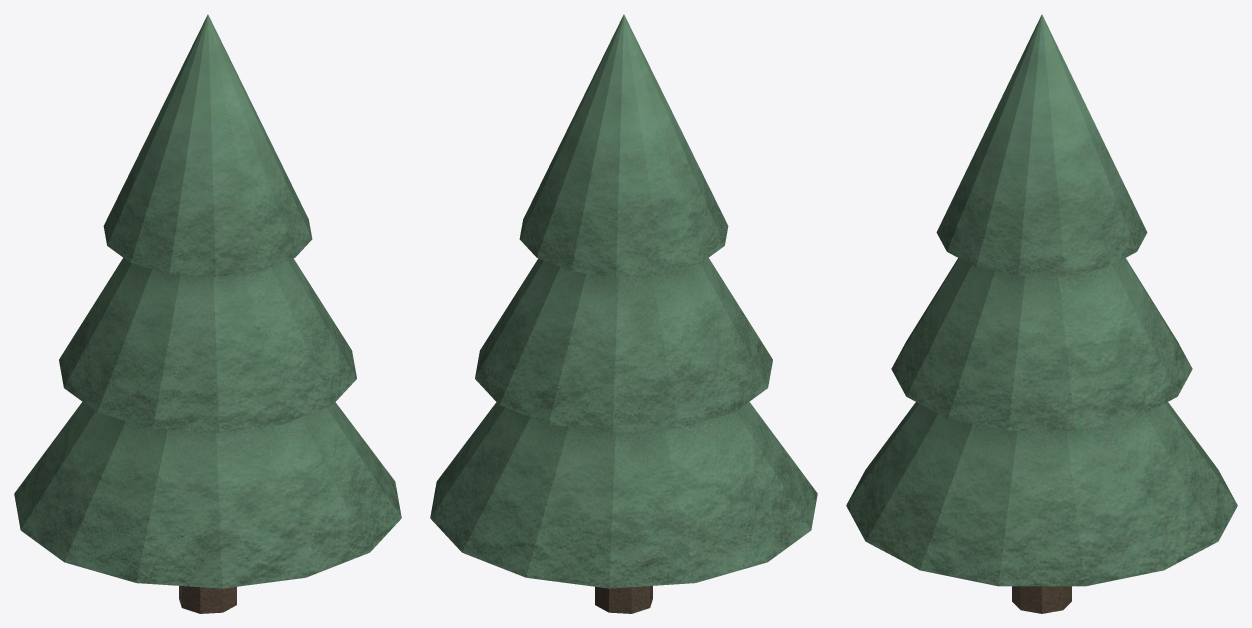
Rendered from baum2.glb.
3 renders of one model, left to right at view 1: azimuth 30°, elevation 25°; view 2: azimuth 150°, elevation 25°; view 3: azimuth 270°, elevation 25°, orthographic.
Parts seen in each view (by area): view 1: baum2; view 2: baum2; view 3: baum2.
Part boxes in pixels (x1,y1,x2,y2): baum2: (14, 14, 401, 613); baum2: (430, 14, 817, 613); baum2: (846, 14, 1237, 613).
Size of the model in its own units: 0.3803 by 0.645 by 0.39.
Materials: 1 (1 with a texture image).
